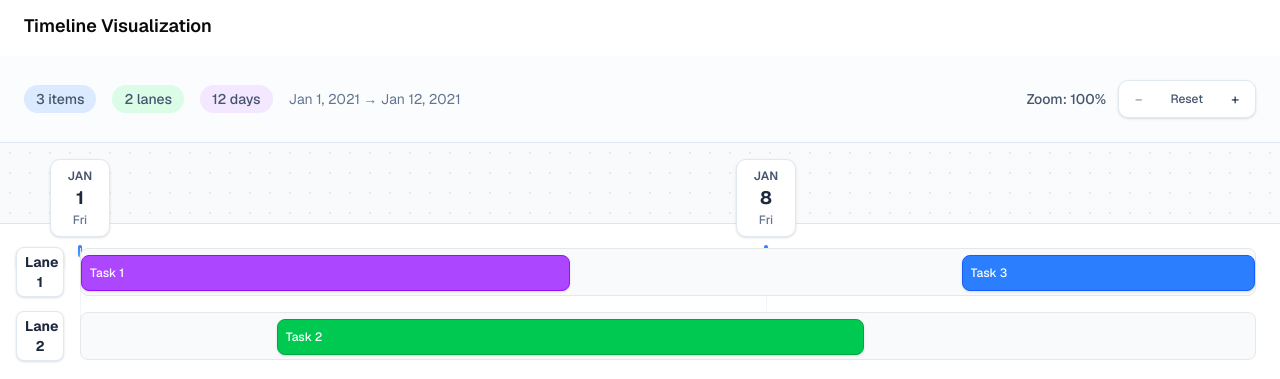
Timeline Integration Tests › should handle zoom functionality correctly
Check: the text "Zoom: 100%" is shown, box [1027,89,1106,109]
Click the button "+" at [1235, 99], box [1219,85,1251,113]
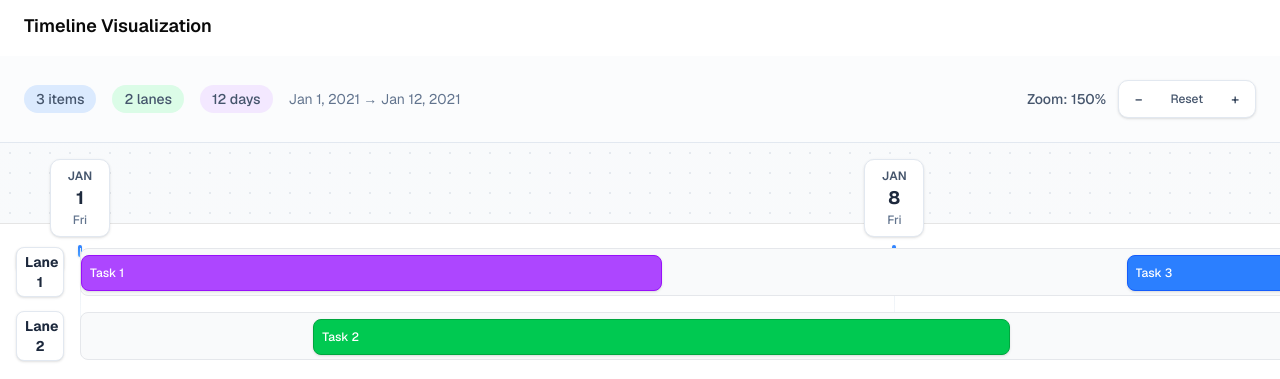
Check: the text "Zoom: 150%" is shown, box [1027,89,1106,109]
Click the button "−" at [1139, 99], box [1123,85,1154,113]
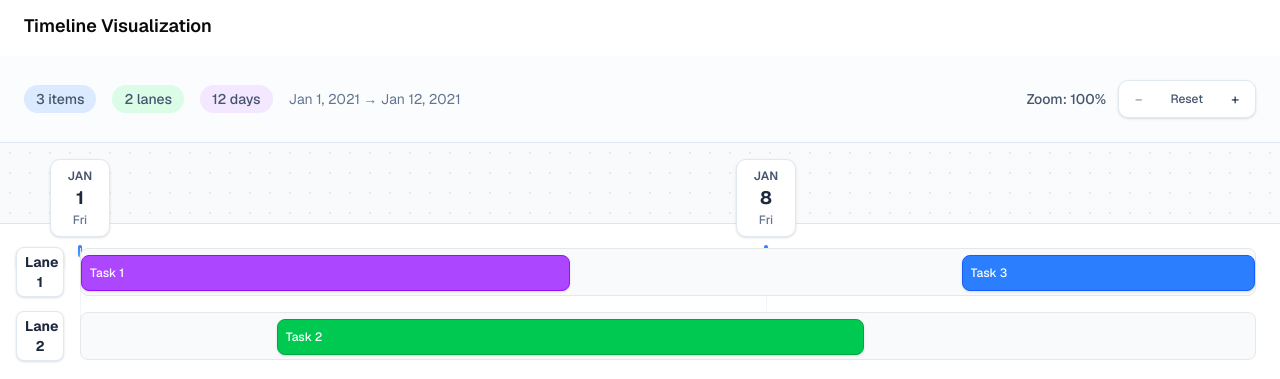
Check: the text "Zoom: 100%" is shown, box [1027,89,1106,109]
